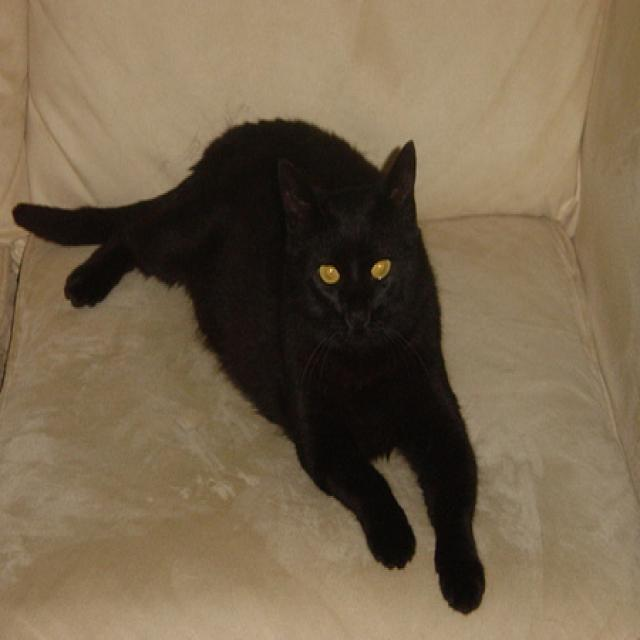Bombay: (8, 115, 488, 618)
